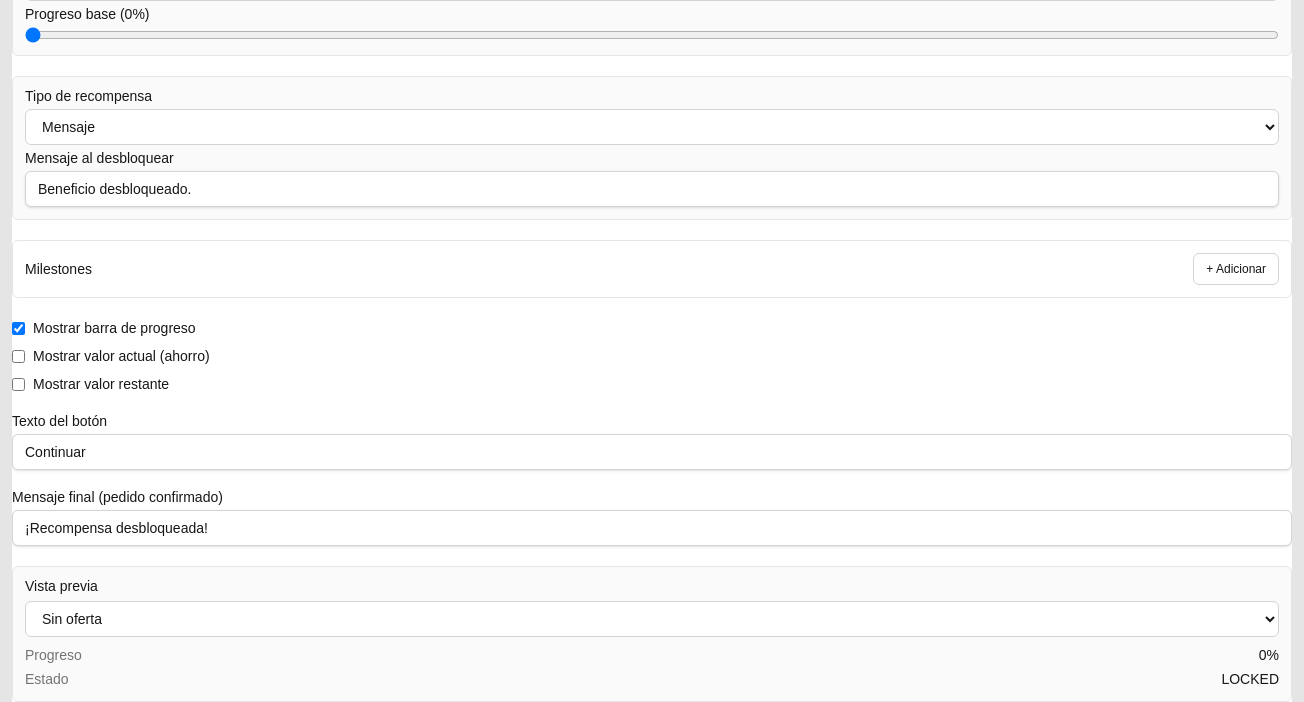
Test: RewardStepEditor — preview usa o mesmo evaluateGamification do storefront › preview 'Pedido confirmado' sempre mostra COMPLETED/100%, mesmo com a regra em 0%
(page scrolled)
Step 1. Select "Pedido confirmado" in the dropdown labelled "Vista previa" → (652, 619), box [25,601,1279,637]
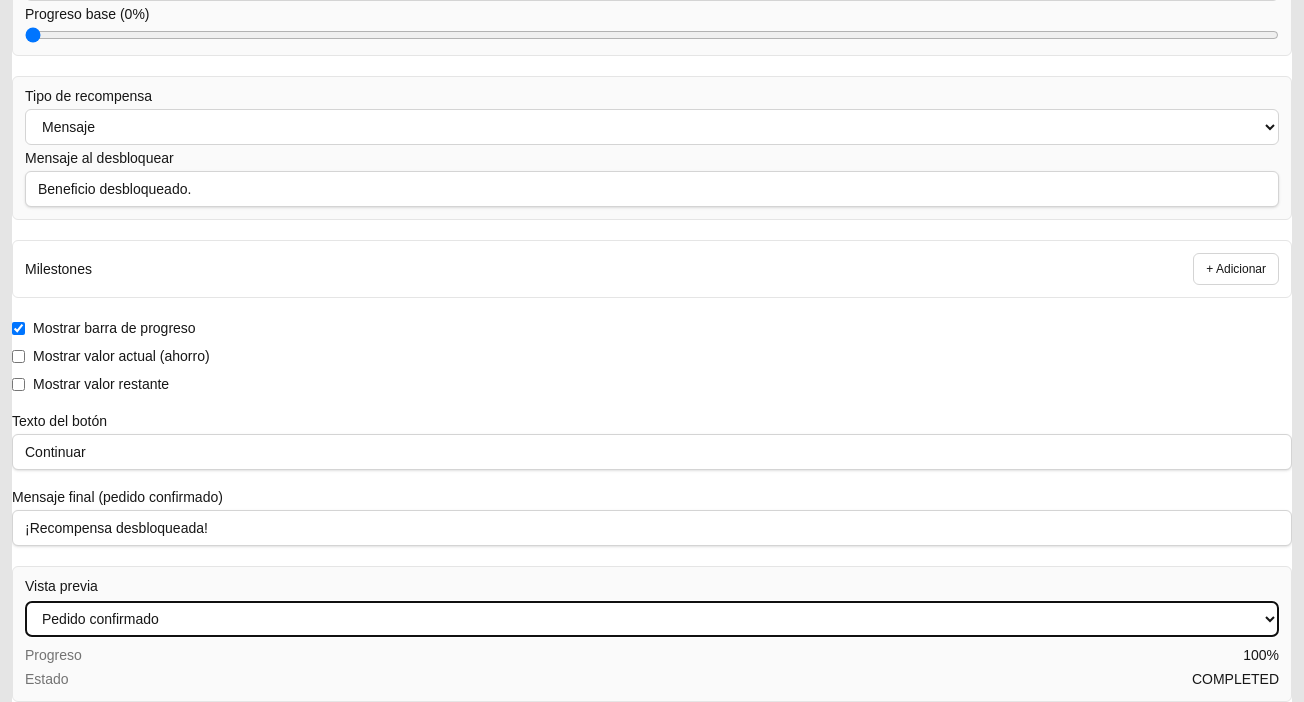
Check: the text "100%" is shown, box [1243,645,1279,665]
Check: the text "COMPLETED" is shown, box [1192,669,1279,689]
